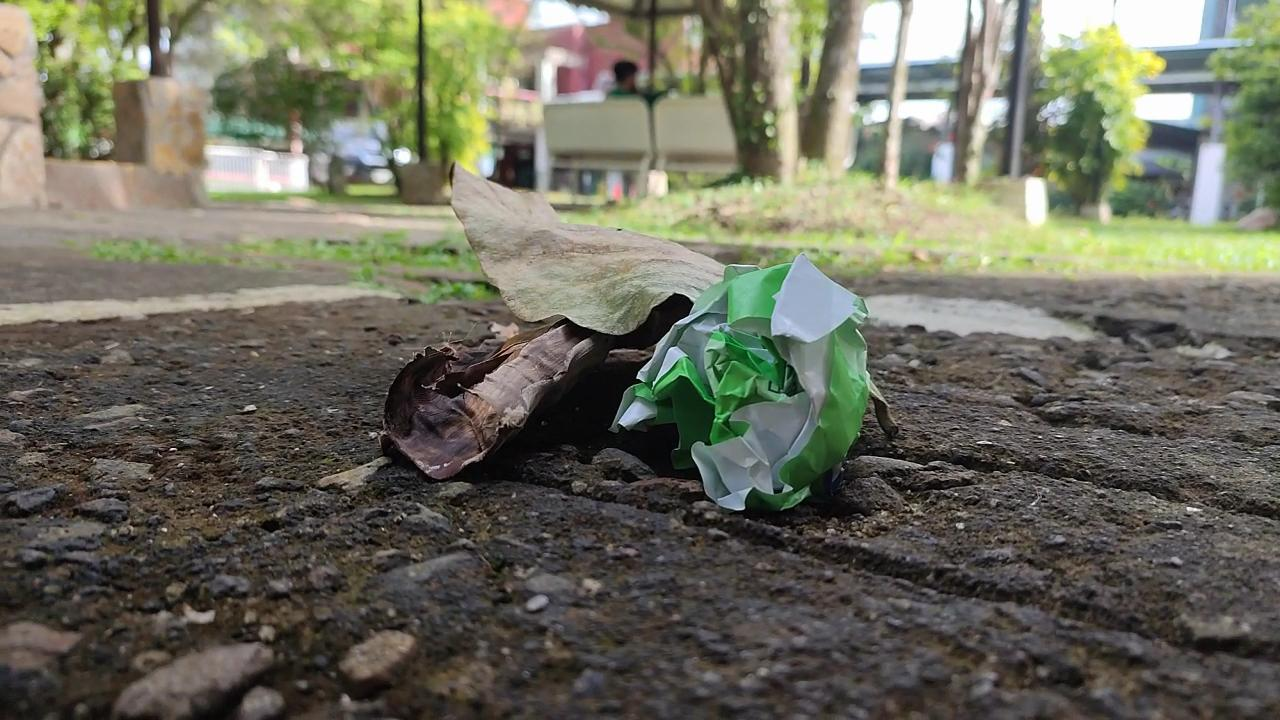Paper: (599, 224, 889, 541)
